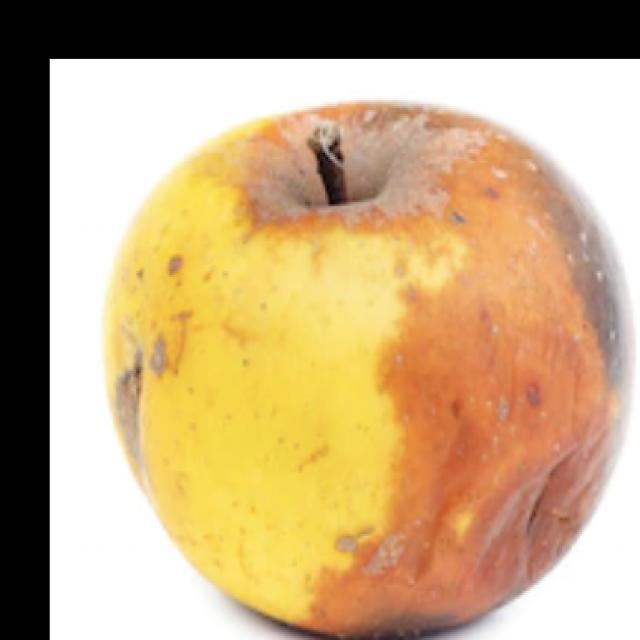Rotten: (104, 102, 640, 640)
